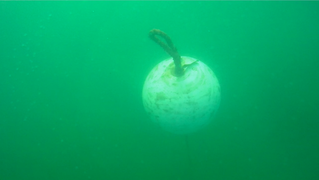buoy: (140, 55, 222, 136)
